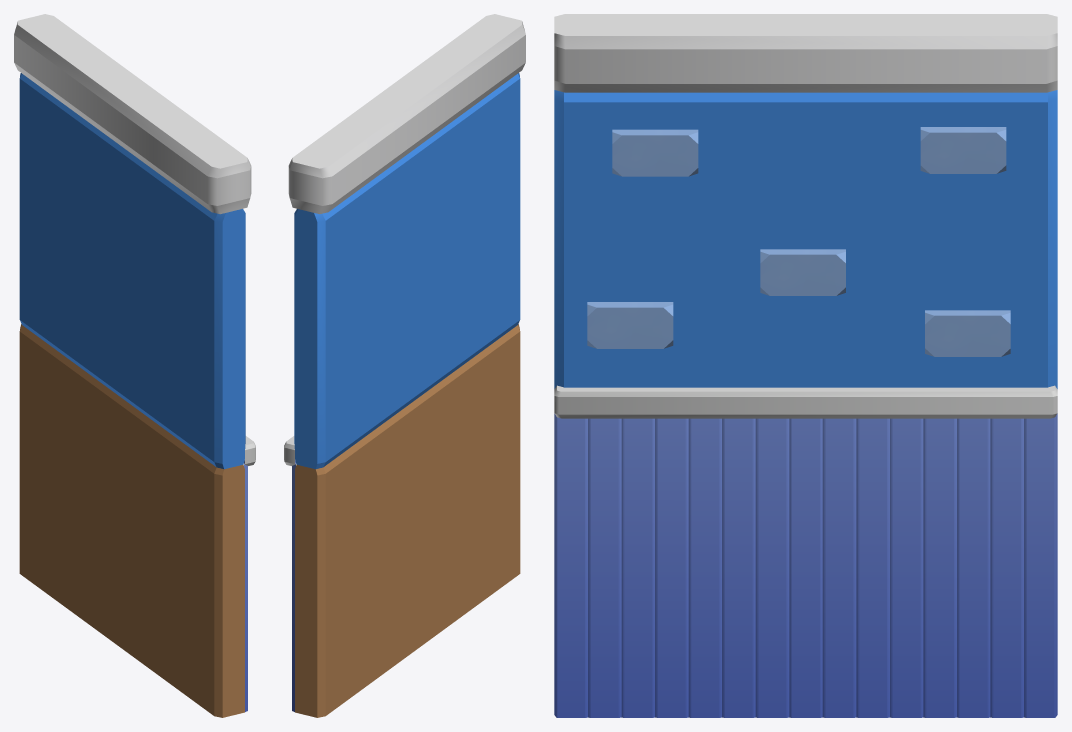
File: Wall_D_16.glb
3 renders of one model, left to right at view 1: azimuth 30°, elevation 25°; view 2: azimuth 150°, elevation 25°; view 3: azimuth 270°, elevation 25°, orthographic. The views are drawn at different scales.
Visible parts, largest first — view 1: Wall_D_16; view 2: Wall_D_16; view 3: Wall_D_16.
Part boxes in pixels (left/top/right/bottom): Wall_D_16: left=14, top=14, right=255, bottom=717; Wall_D_16: left=284, top=14, right=525, bottom=717; Wall_D_16: left=554, top=14, right=1057, bottom=717.
Bounding box in the file's own units: 0.2676 × 3 × 2.
Materials: 1 (1 with a texture image).
